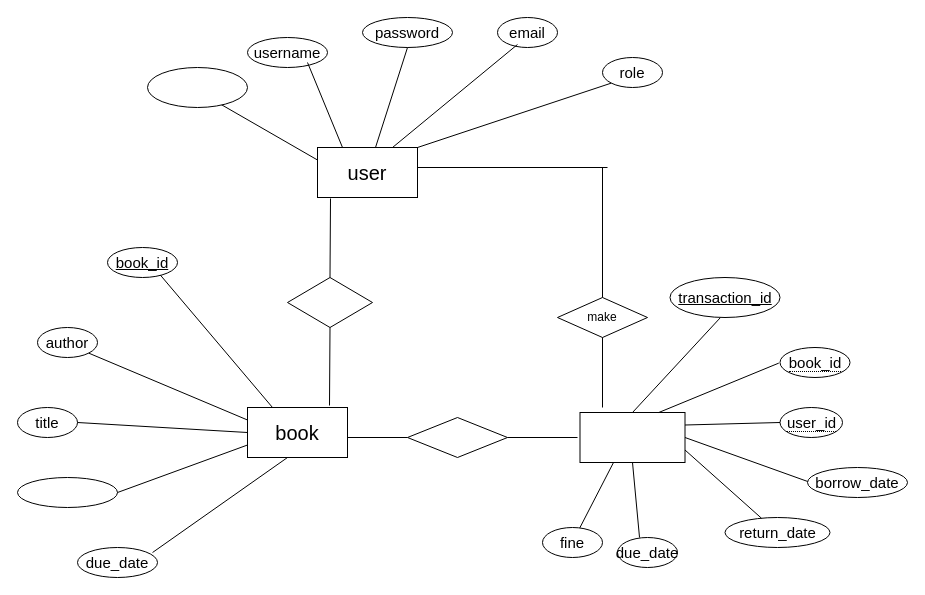
The diagram is 925 pixels wide and 595 high, and some of its shapes have lost their labels. The shapes that lost their labels are listed below. From the top down, each one's centre as x and y in pixels, then its label:
(197,87): uer_id
(329,302): borrows
(457,437): records
(632,437): transaction
(67,492): is_borrowed
